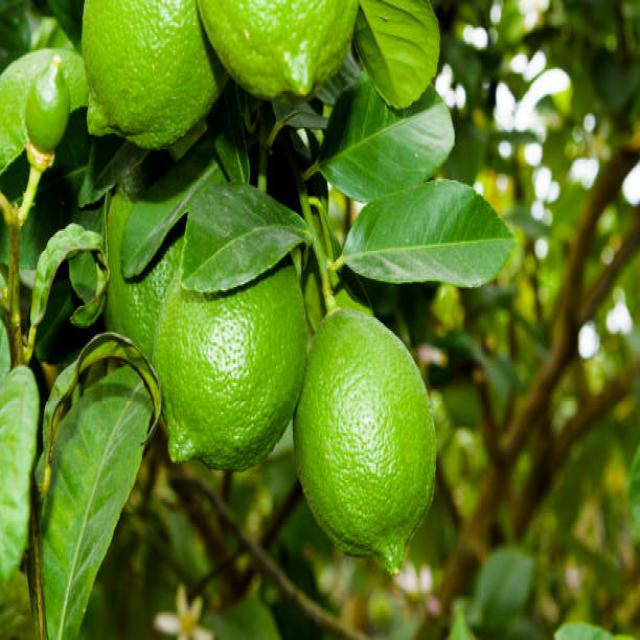Unripe: (295, 306, 435, 579)
